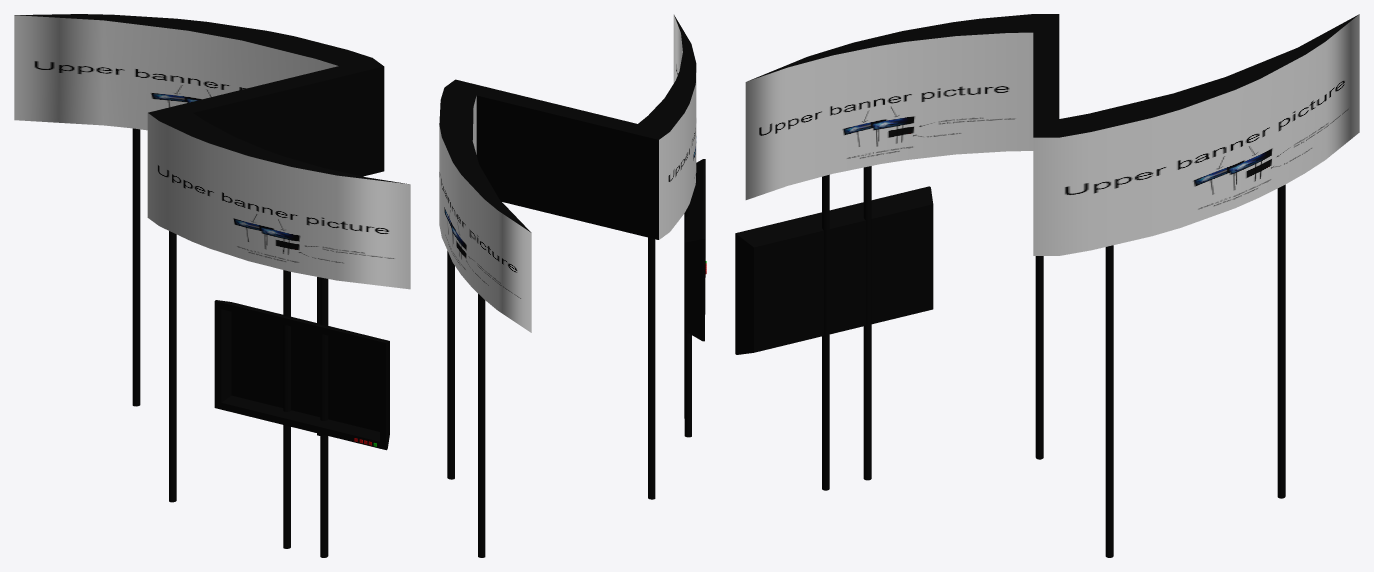
File: Upper1.obj
3 renders of one model, left to right at view 1: azimuth 30°, elevation 25°; view 2: azimuth 150°, elevation 25°; view 3: azimuth 270°, elevation 25°, orthographic. The views are drawn at different scales.
Parts seen in each view (by area): view 1: zkioskuppersingle4_ExpoBooth.003_ExpoBooth.003; view 2: zkioskuppersingle4_ExpoBooth.003_ExpoBooth.003; view 3: zkioskuppersingle4_ExpoBooth.003_ExpoBooth.003.
Boxes of the visible parts, x1,y1,x2,y2 form: zkioskuppersingle4_ExpoBooth.003_ExpoBooth.003: (14, 14, 410, 557); zkioskuppersingle4_ExpoBooth.003_ExpoBooth.003: (439, 14, 706, 557); zkioskuppersingle4_ExpoBooth.003_ExpoBooth.003: (735, 14, 1359, 557).
Bounding box in the file's own units: 2.02 × 3.3 × 4.3.
4 materials, 1 textured.
